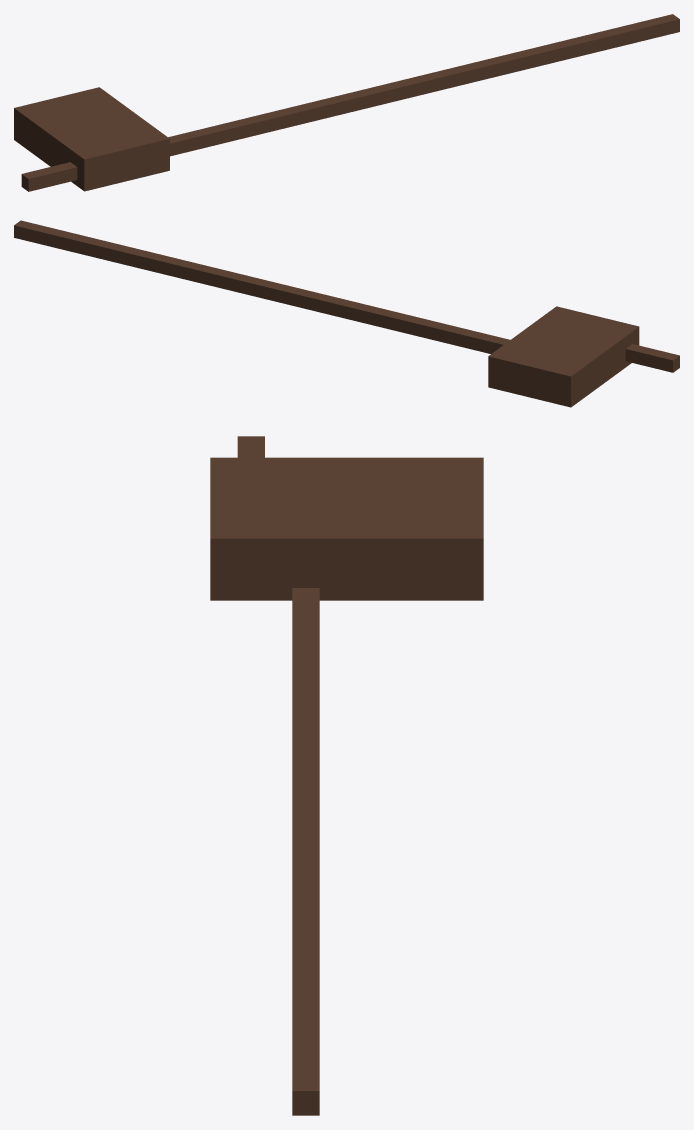
Rendered from hatchback_exhaust.glb.
The picture shows the model from 3 angles, top to bottom: view 1: azimuth 30°, elevation 25°; view 2: azimuth 150°, elevation 25°; view 3: azimuth 270°, elevation 25°; orthographic projection. The views are drawn at different scales.
Parts seen in each view (by area): view 1: body:compound; view 2: body:compound; view 3: body:compound.
Boxes of the visible parts, left/top/right/bottom form: body:compound: left=14, top=14, right=679, bottom=191; body:compound: left=14, top=220, right=679, bottom=407; body:compound: left=210, top=436, right=483, bottom=1115.
Size of the model in its own units: 3.41 by 0.1875 by 0.625.
